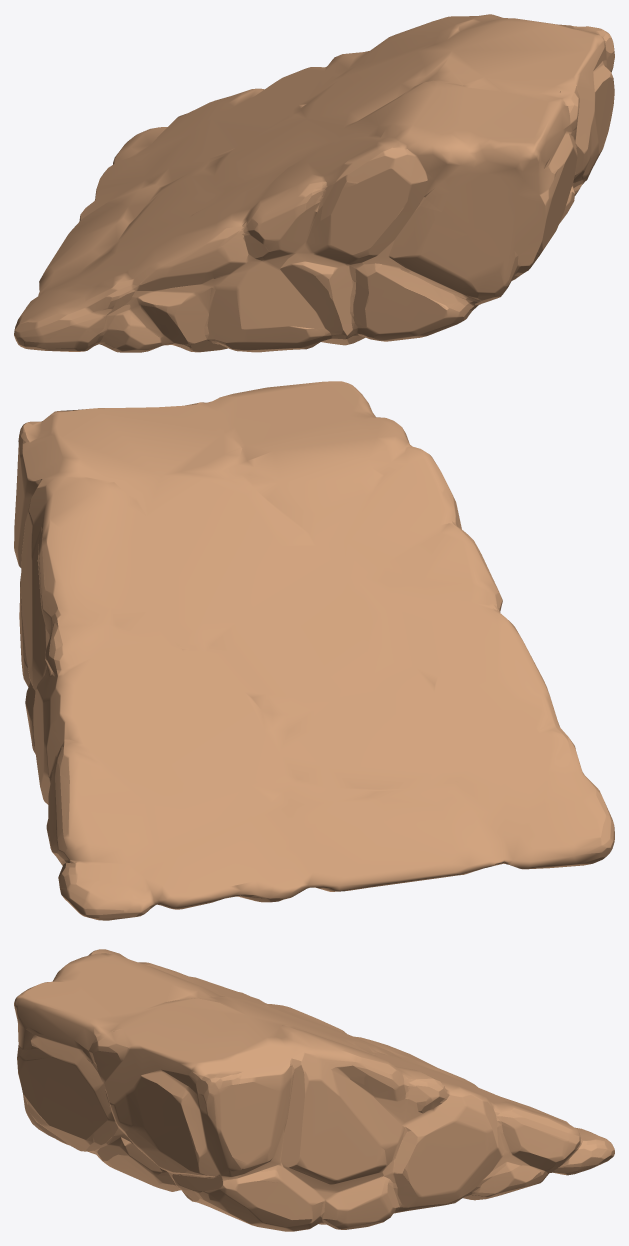
3 views of the same model, one above another, from view 1: azimuth 30°, elevation 25°; view 2: azimuth 150°, elevation 25°; view 3: azimuth 270°, elevation 25° (orthographic). The views are drawn at different scales.
Parts seen in each view (by area): view 1: Mesh_10_LOD0; view 2: Mesh_10_LOD0; view 3: Mesh_10_LOD0.
Boxes of the visible parts, x1,y1,x2,y2 form: Mesh_10_LOD0: [14, 14, 614, 352]; Mesh_10_LOD0: [14, 381, 614, 920]; Mesh_10_LOD0: [14, 949, 614, 1231].
Size of what is drawn, in the model's own units: 4478 by 1769 by 4451.
